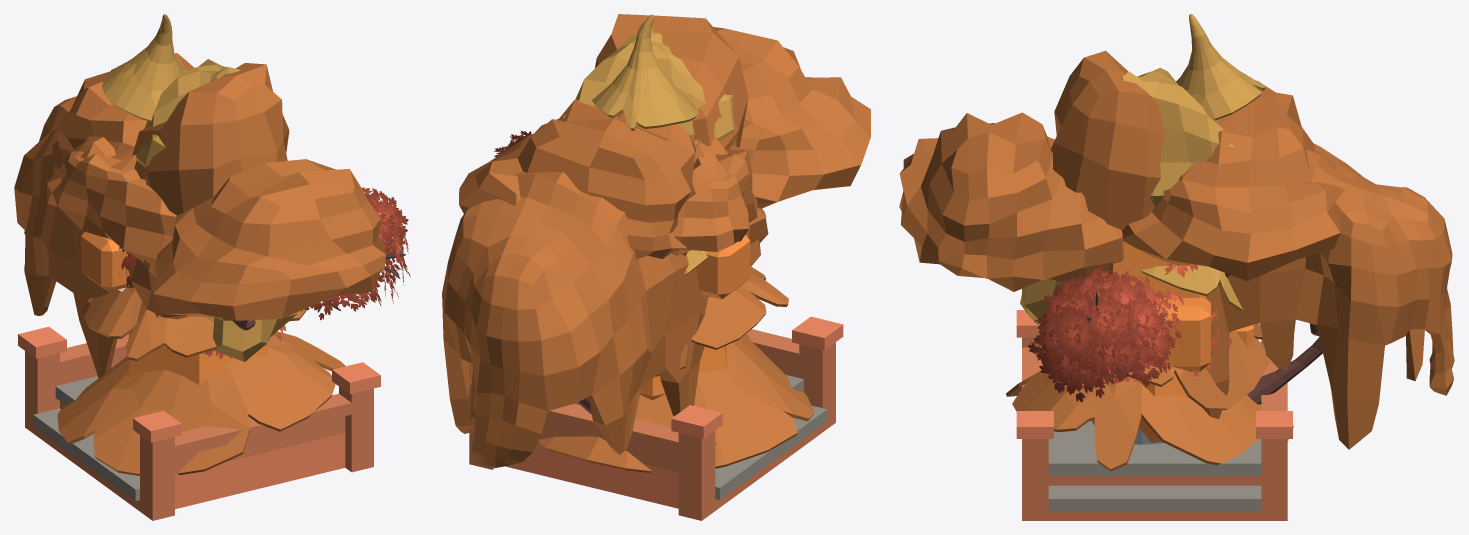
File: autumn.glb
3 views of the same model, side by side, from view 1: azimuth 30°, elevation 25°; view 2: azimuth 150°, elevation 25°; view 3: azimuth 270°, elevation 25° (orthographic). The views are drawn at different scales.
Visible parts, largest first — view 1: tree_autumn_a, pine_autumn_a, bridge_a, birch_autumn_a, willow_autumn_a, tree_autumn_b, tree_autumn_c, maple_a, tree_fall_c, tree_fall_b; view 2: willow_autumn_a, tree_autumn_a, pine_autumn_a, bridge_a, birch_autumn_a, tree_autumn_b, tree_autumn_c, tree_fall_b, tree_fall_c; view 3: tree_autumn_a, willow_autumn_a, bridge_a, pine_autumn_a, birch_autumn_a, maple_a, tree_autumn_c, tree_fall_b, oak_fall_a, tree_fall_c.
Boxes of the visible parts, box(x1,y1,x2,y2) form: tree_autumn_a: box(52, 53, 385, 330); pine_autumn_a: box(57, 14, 345, 475); bridge_a: box(18, 326, 380, 520); birch_autumn_a: box(132, 63, 297, 361); willow_autumn_a: box(14, 96, 134, 378); tree_autumn_b: box(47, 135, 176, 266); tree_autumn_c: box(129, 59, 239, 319); maple_a: box(119, 187, 410, 320); tree_fall_c: box(127, 331, 267, 385); tree_fall_b: box(81, 231, 132, 291); willow_autumn_a: box(442, 171, 708, 467); tree_autumn_a: box(459, 27, 870, 259); pine_autumn_a: box(538, 14, 814, 472); bridge_a: box(469, 316, 843, 520); birch_autumn_a: box(595, 14, 748, 149); tree_autumn_b: box(671, 138, 757, 255); tree_autumn_c: box(562, 22, 768, 266); tree_fall_b: box(696, 234, 750, 299); tree_fall_c: box(640, 345, 727, 400); tree_autumn_a: box(899, 80, 1344, 291); willow_autumn_a: box(1203, 143, 1454, 449); bridge_a: box(1016, 310, 1292, 520); pine_autumn_a: box(1006, 14, 1293, 471); birch_autumn_a: box(1020, 50, 1164, 324); maple_a: box(1028, 264, 1214, 402); tree_autumn_c: box(1121, 67, 1234, 206); tree_fall_b: box(1139, 297, 1253, 371); oak_fall_a: box(1105, 241, 1205, 298); tree_fall_c: box(1092, 366, 1187, 442).
Bounding box in the file's own units: 8.65 × 11 × 12.54.
Materials: 26 (4 with a texture image).
